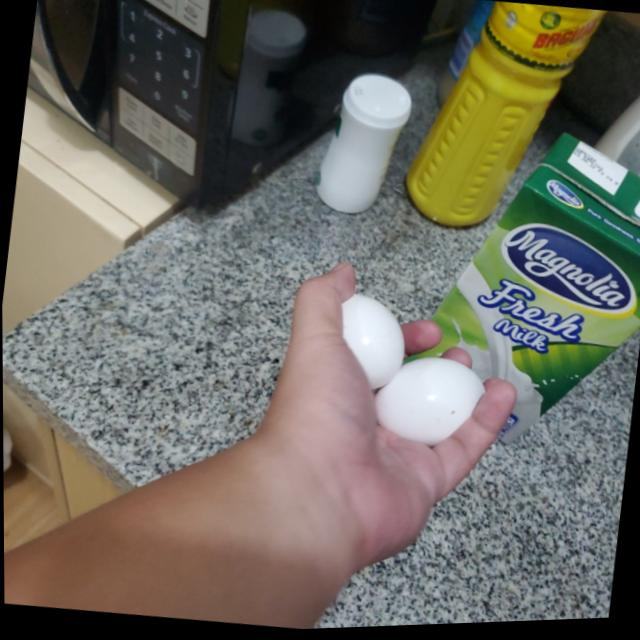egg: (368, 352, 493, 459), (333, 286, 411, 395)
milk: (398, 117, 640, 411)
